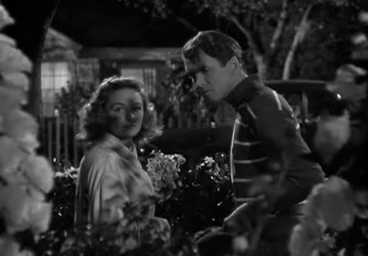face: (184, 59, 222, 104), (108, 97, 143, 135)
ms: (1, 1, 368, 256)
person: (181, 31, 317, 255), (75, 75, 172, 256)
